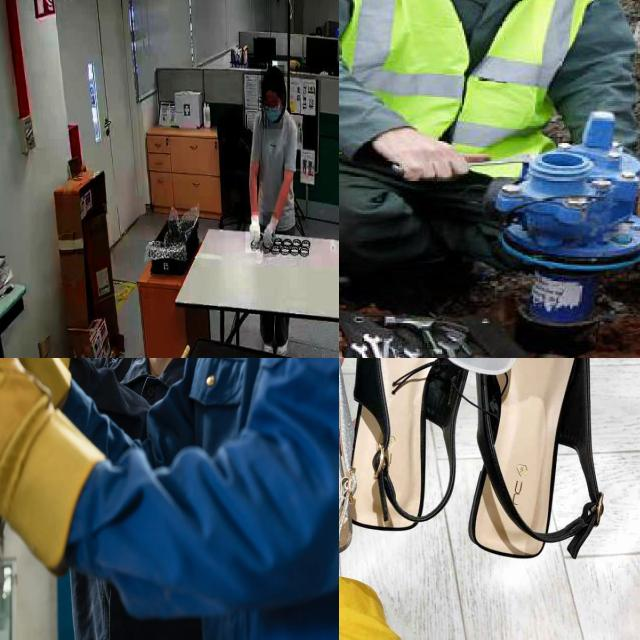Sandals: (347, 358, 621, 580)
face_mask: (263, 95, 283, 129)
glasses: (261, 100, 279, 116)
hand_glove: (0, 358, 91, 547), (263, 212, 277, 258), (246, 212, 260, 254)
head_nohelmet: (261, 65, 285, 89)
person: (339, 0, 640, 315), (247, 51, 310, 252)
vest: (339, 0, 574, 180)
